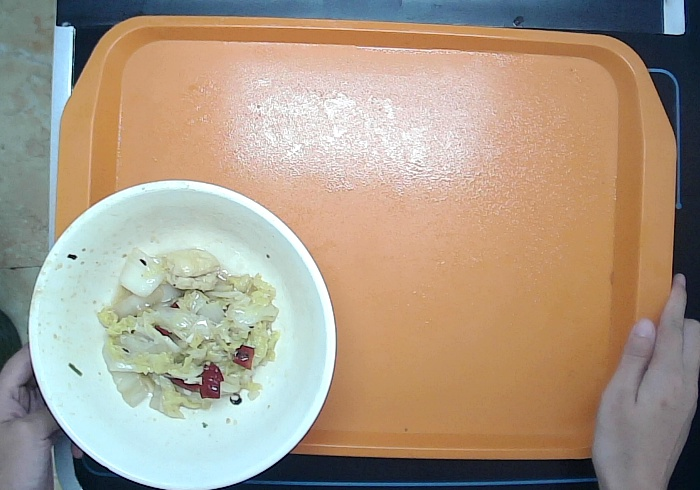ZNLD-Da_Tang_Wan: (13, 169, 343, 490)
